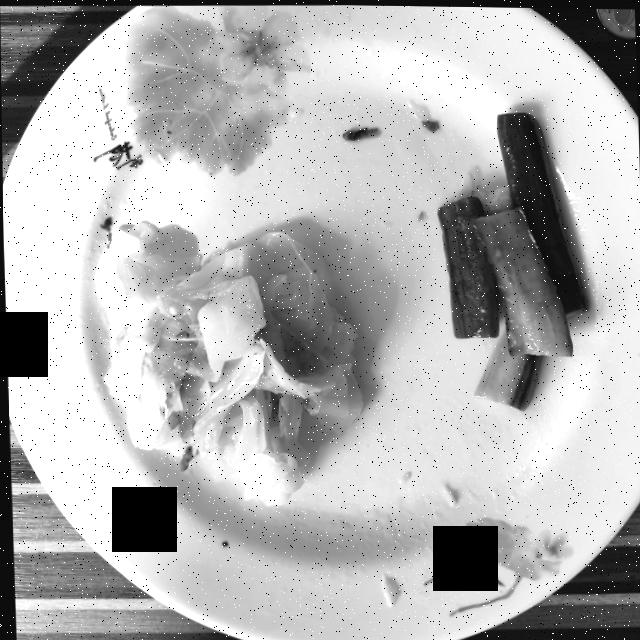cabbage: (98, 221, 360, 503)
coin: (595, 7, 635, 37)
cucumber: (436, 111, 585, 408)
